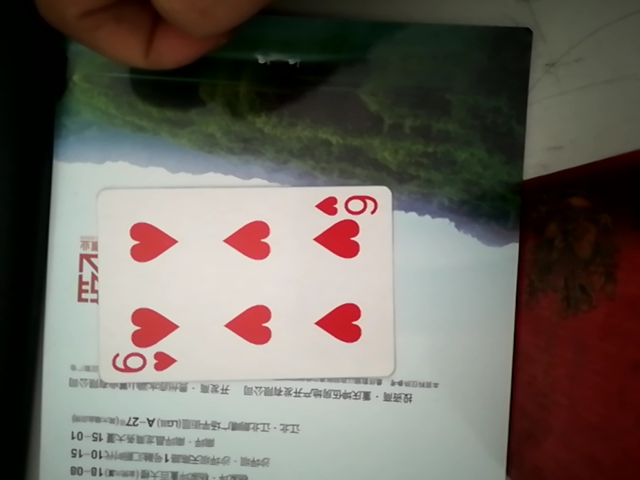hx 6: (83, 179, 395, 383)
